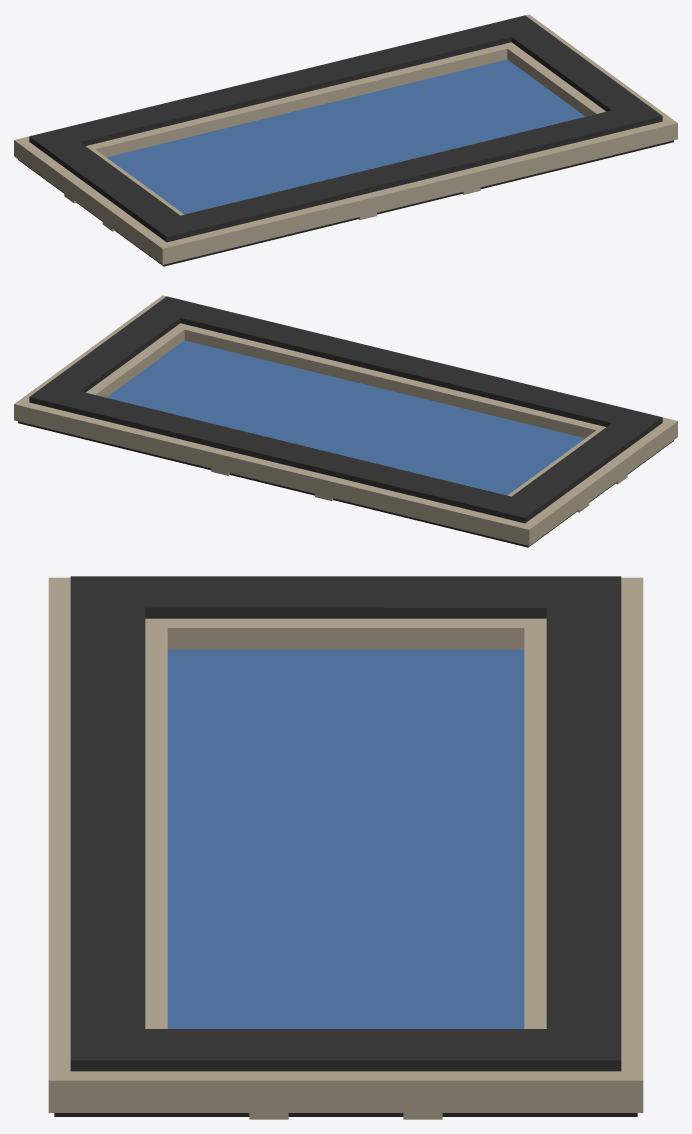
File: Building_B_02_02.FBX
3 renders of one model, top to bottom at view 1: azimuth 30°, elevation 25°; view 2: azimuth 150°, elevation 25°; view 3: azimuth 270°, elevation 25°, orthographic. The views are drawn at different scales.
Visible parts, largest first — view 1: Building_B_02_02; view 2: Building_B_02_02; view 3: Building_B_02_02.
Part boxes in pixels (x1,y1,x2,y2): Building_B_02_02: [14, 14, 677, 266]; Building_B_02_02: [14, 295, 677, 547]; Building_B_02_02: [48, 576, 643, 1119].
Bounding box in the file's own units: 10 × 0.4615 × 5.
